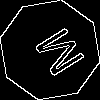M: (25, 25, 86, 85)
